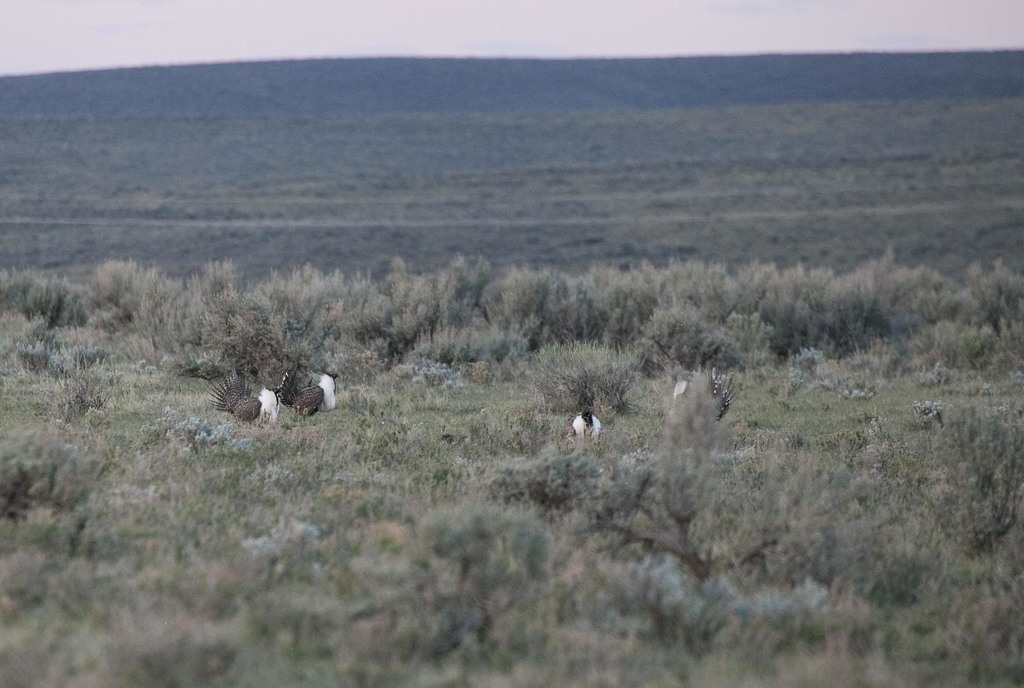Animal: (197, 375, 282, 431), (670, 360, 729, 417), (288, 368, 337, 425), (567, 411, 599, 445)
